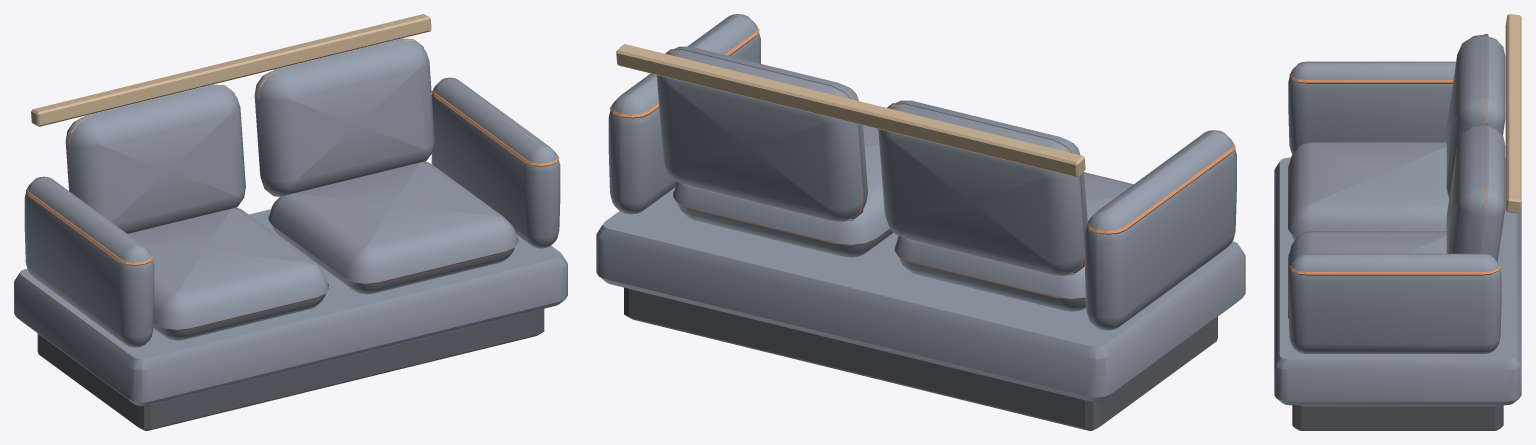
File: sofa-two-seat.glb
3 renders of one model, left to right at view 1: azimuth 30°, elevation 25°; view 2: azimuth 150°, elevation 25°; view 3: azimuth 270°, elevation 25°, orthographic. The views are drawn at different scales.
Visible parts, largest first — view 1: sofa-two-seat; view 2: sofa-two-seat; view 3: sofa-two-seat.
Part boxes in pixels (x1,y1,x2,y2): sofa-two-seat: (14, 14, 567, 430); sofa-two-seat: (596, 14, 1245, 430); sofa-two-seat: (1274, 14, 1521, 430).
Size of the model in its own units: 1.63 by 0.8469 by 0.8201.
